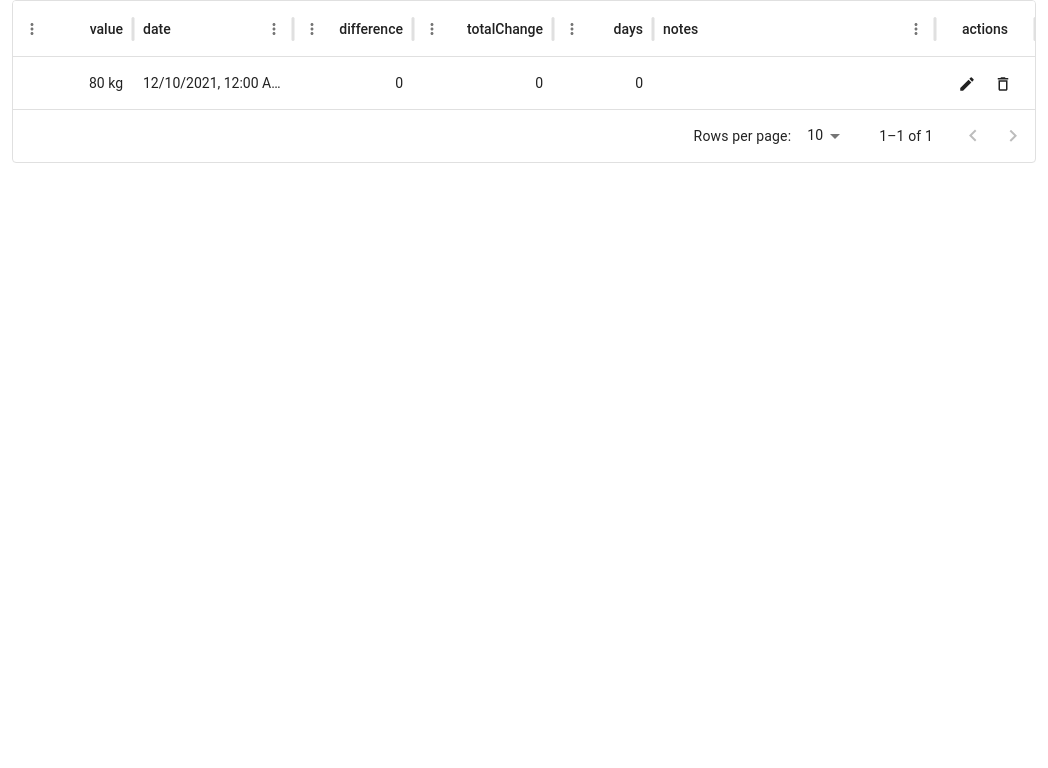
Test: CategoryDetailDataGrid › with a display unit › an edit the server refuses is shown instead of being kept
Expected: the text "80 kg" is shown, [89,75,123,91]
Click the button named "edit" at (967,84), box [953,70,981,98]
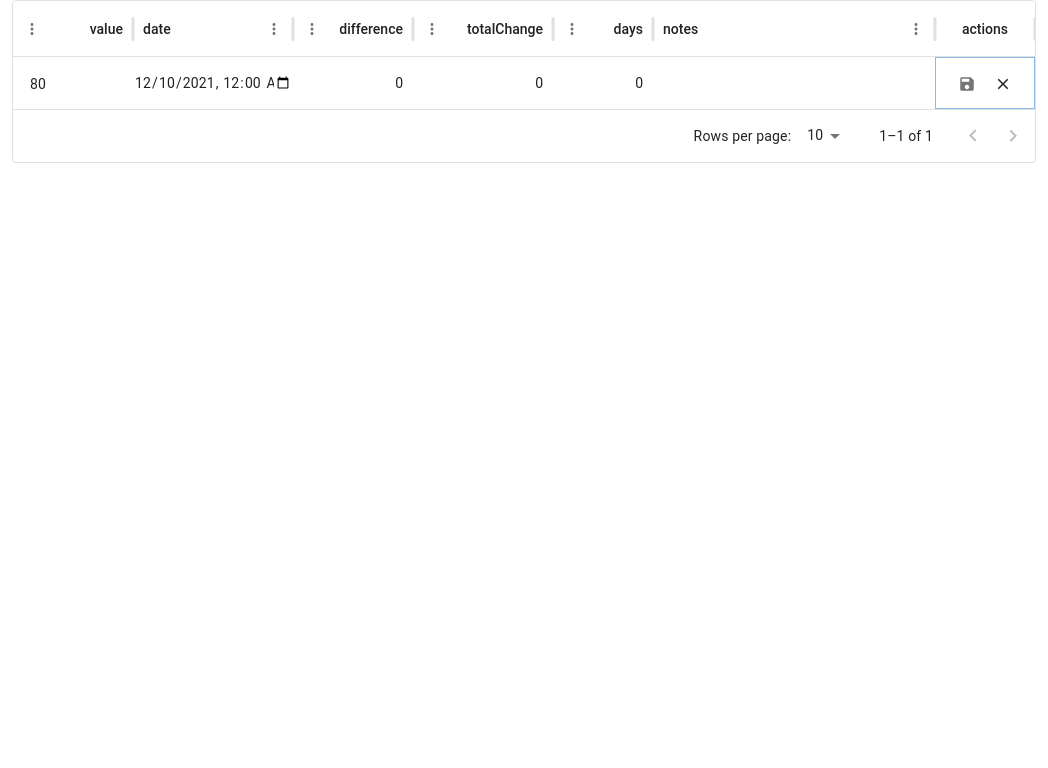
Replace the text in the number field with "90" at (73,84), box [14,60,132,107]
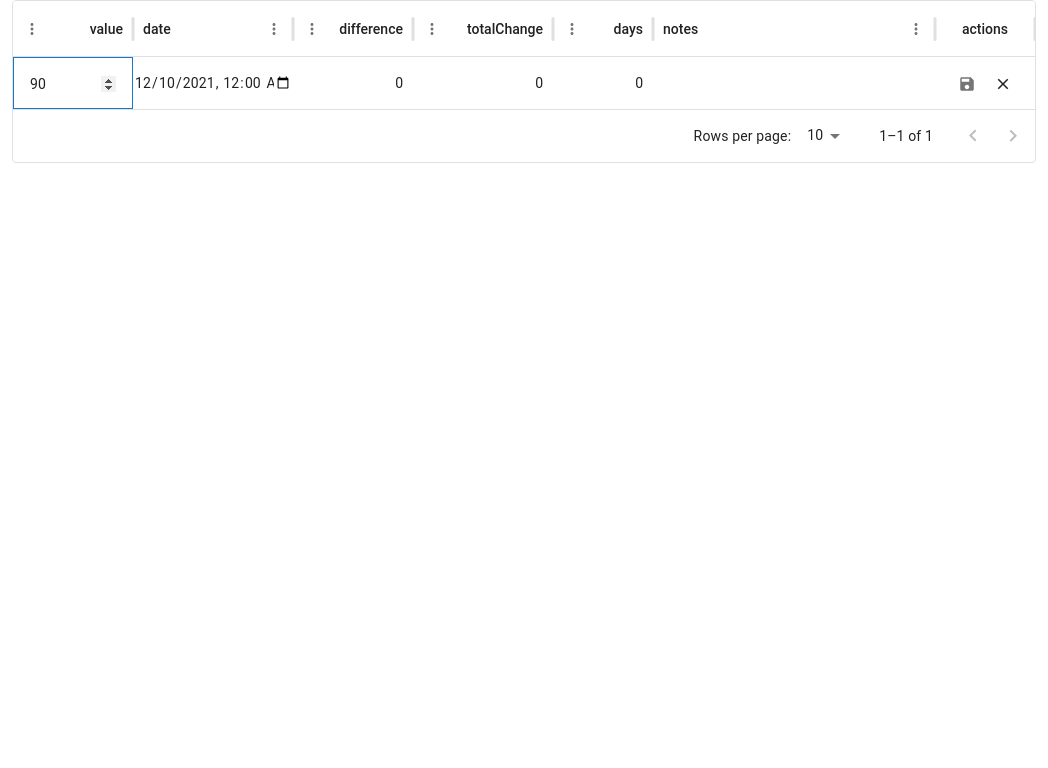
Click the button named "save" at (967,84), box [953,70,981,98]
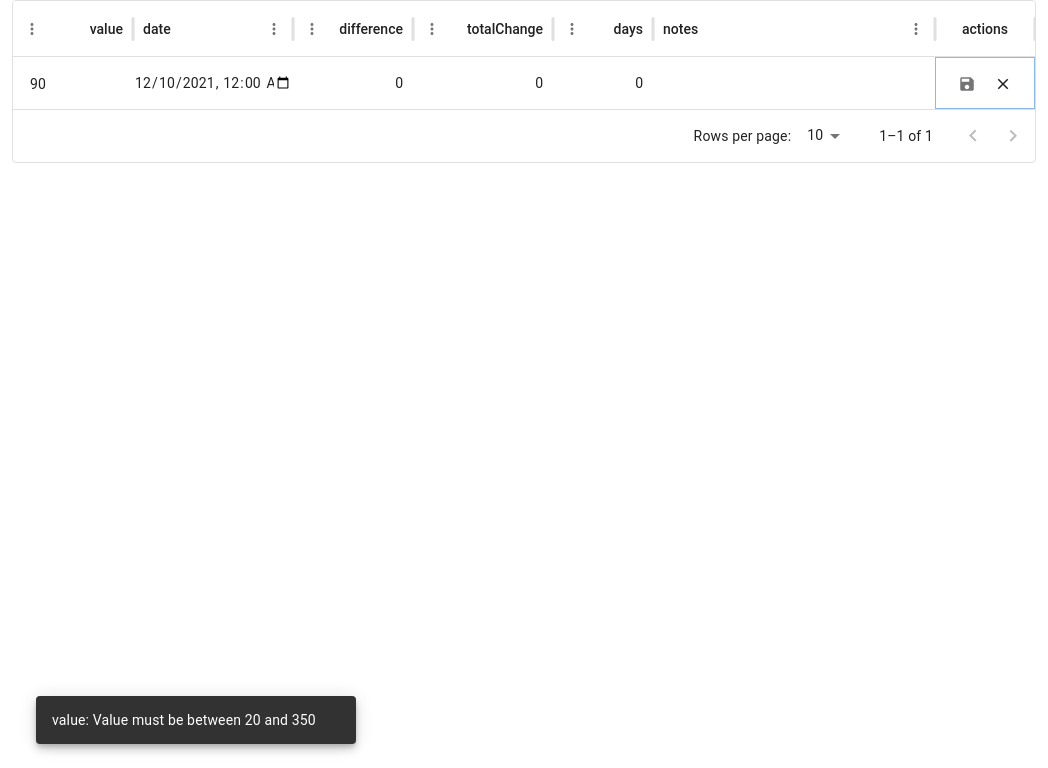
Expected: the text "value: Value must be between 20 and 350" is shown, [52,712,316,728]
